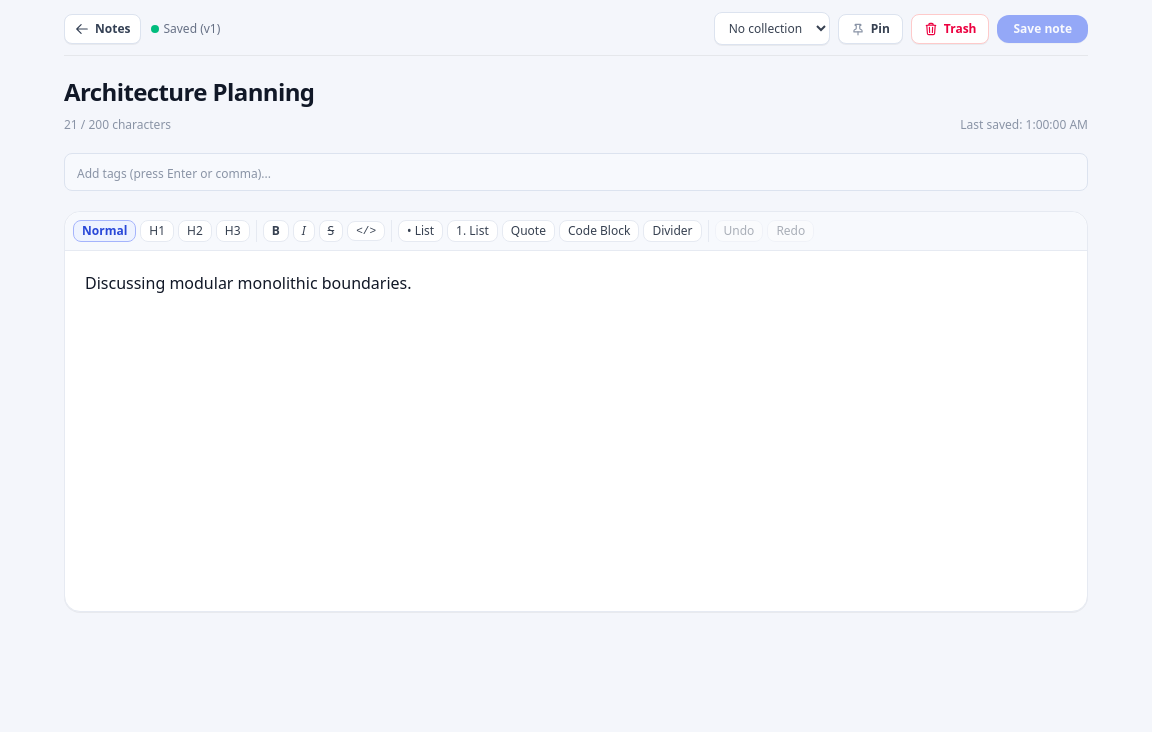
Stage 5B: Frontend Notes & Rich-Text Editor › 7. Explicit Save Workflow › successfully saves note, increments version, and updates saved baseline
Replace the text in the field named "Note Title" with "Architecture Planning Updated" at (576, 94), box left=64, top=76, right=1088, bottom=113
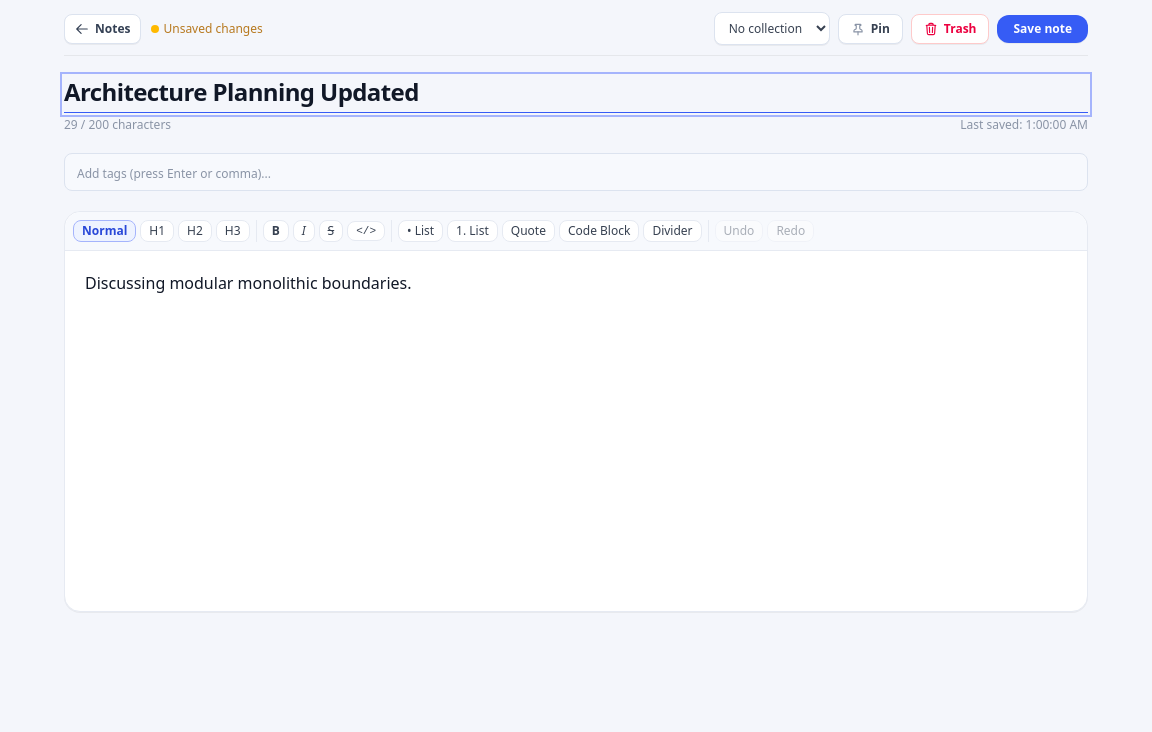
expect the button "Save note" is enabled: met
Click the button "Save note" at (1043, 28), box left=998, top=14, right=1088, bottom=42
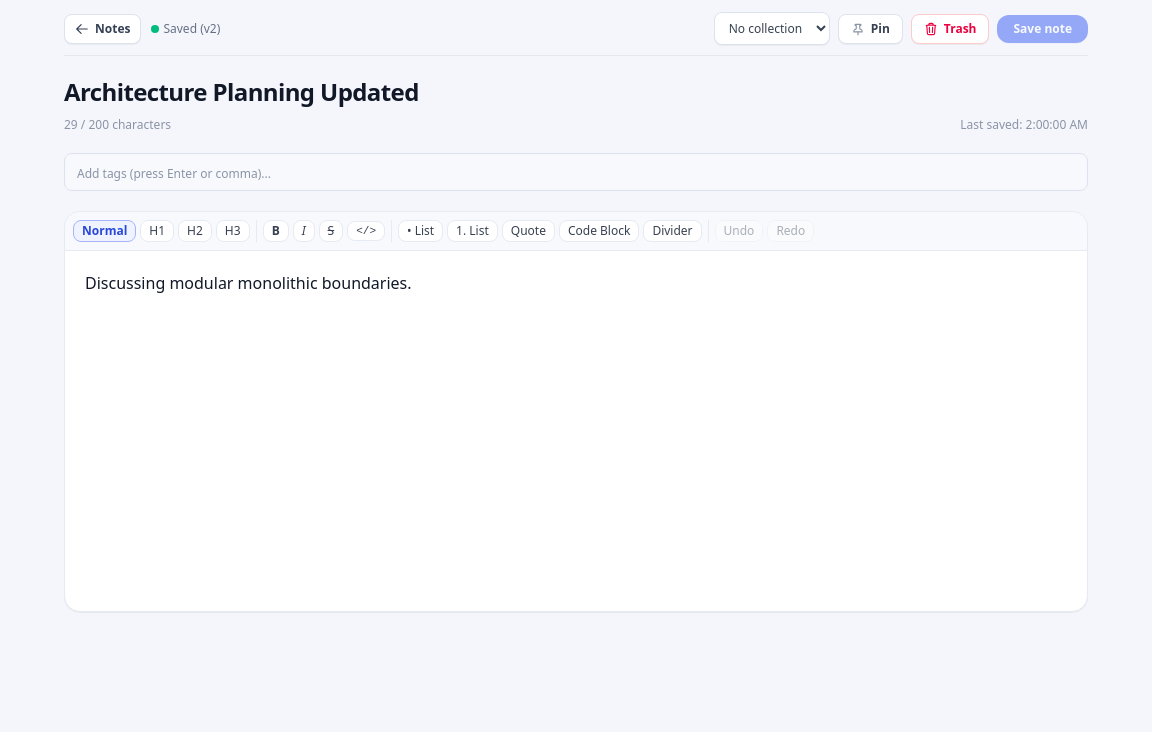
expect the text "Saved (v2)" is shown: met, box left=152, top=20, right=220, bottom=36
